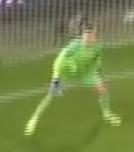goalkeeper: (8, 8, 134, 152)
